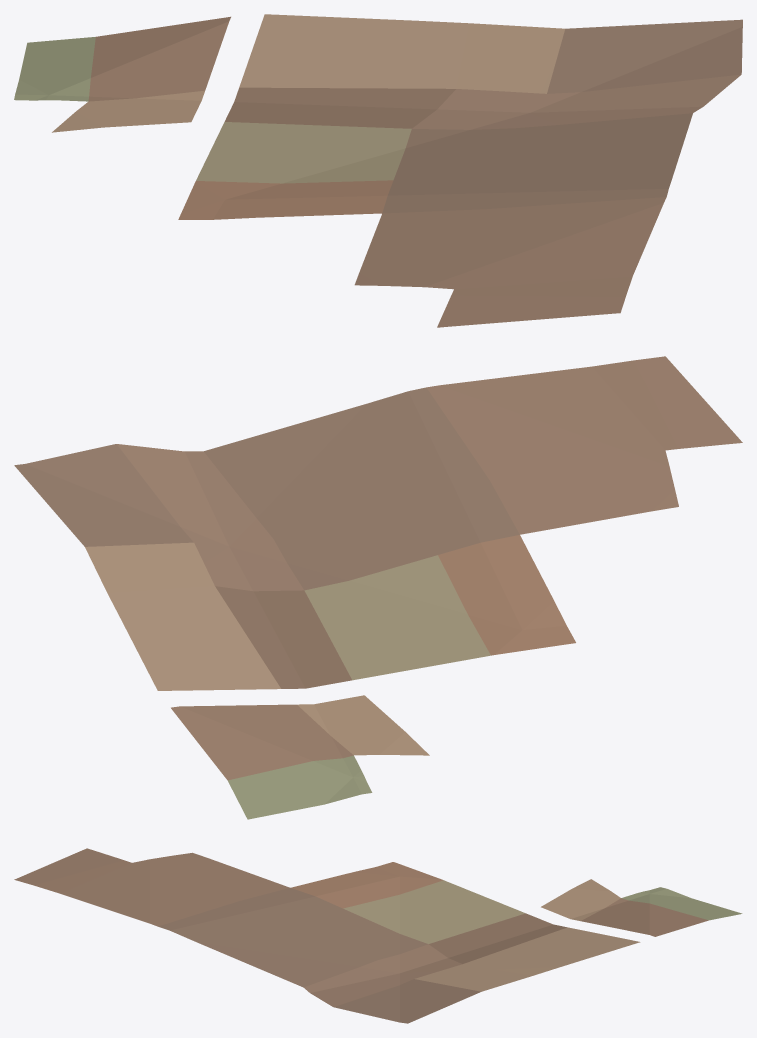
Rendered from farm_-56_-55_soil.glb.
3 views of the same model, one above another, from view 1: azimuth 30°, elevation 25°; view 2: azimuth 150°, elevation 25°; view 3: azimuth 270°, elevation 25° (orthographic). The views are drawn at different scales.
Visible parts, largest first — view 1: geometry_0; view 2: geometry_0; view 3: geometry_0.
Boxes of the visible parts, x1,y1,x2,y2 form: geometry_0: (14,14,742,327); geometry_0: (14,356,742,819); geometry_0: (14,848,742,1023).
Bounding box in the file's own units: 151 × 23.21 × 234.
